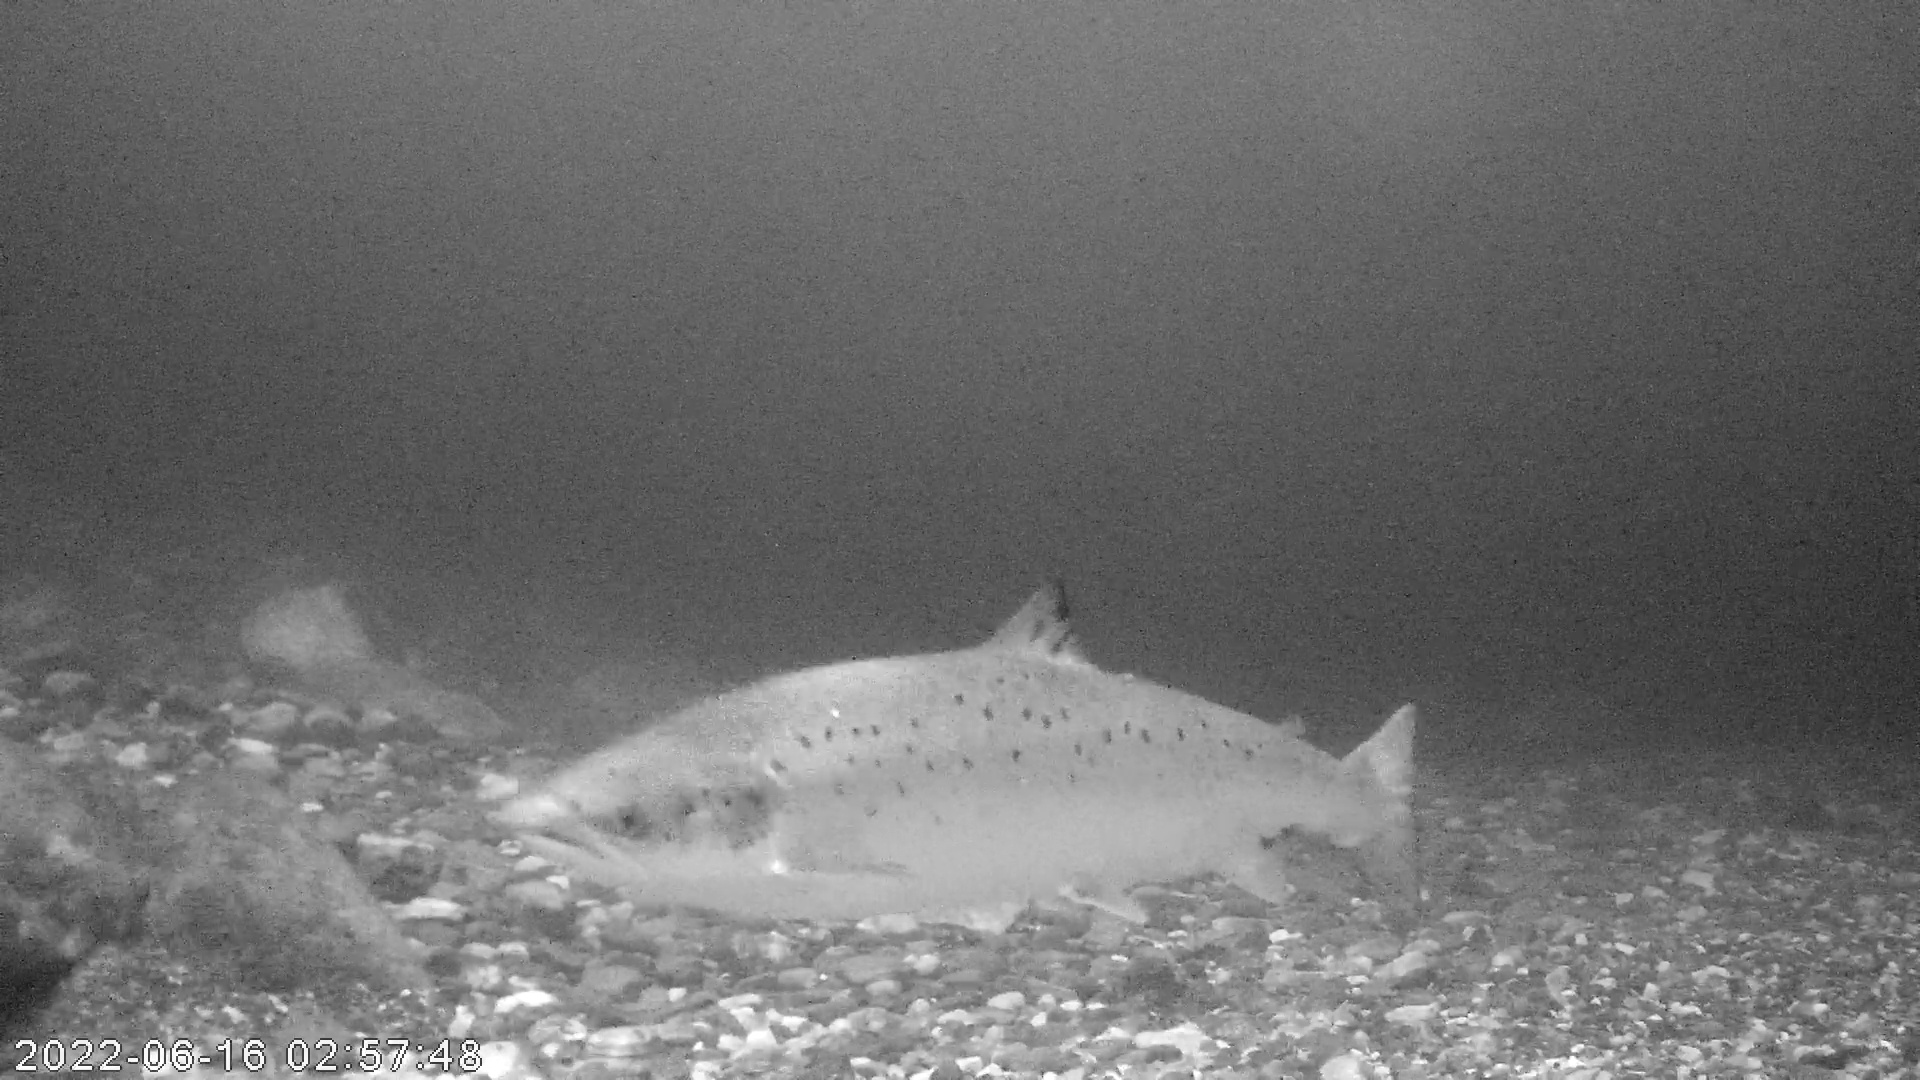salmon: (508, 571, 1425, 938)
